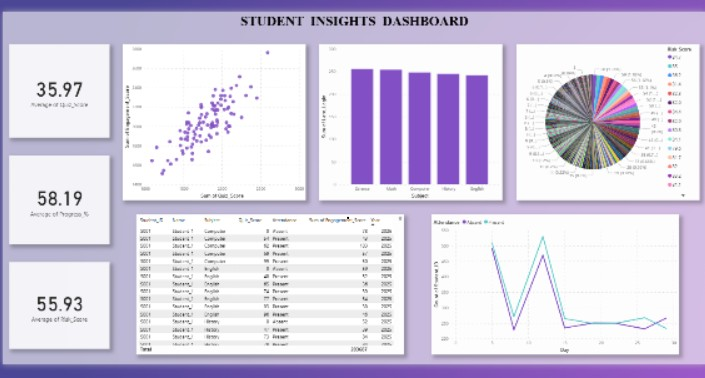

What the dashboard file says about the page in this screenshot:
{"tool":"powerbi","page":{"name":"Page 1","canvas":[1950,978],"ordinal":0},"visuals":[{"type":"card","fields":{"Values":["Student_Learning_Gap_Dataset_100.Quiz_Score"]},"box":[17.1,90,278.6,259.3],"z":0},{"type":"card","fields":{"Values":["Student_Learning_Gap_Dataset_100.Progress_%"]},"box":[17.1,398.6,278.6,246.4],"z":1000},{"type":"card","fields":{"Values":["Student_Learning_Gap_Dataset_100.Risk_Score"]},"box":[17.1,694.3,278.6,240],"z":2000},{"type":"scatterChart","fields":{"X":["Student_Learning_Gap_Dataset_100.Quiz_Score"],"Y":["Student_Learning_Gap_Dataset_100.Engagement_Score"],"Category":["Student_Learning_Gap_Dataset_100.Student_ID"]},"box":[332.1,90,507.9,432.9],"z":3000},{"type":"lineChart","fields":{"Category":["Student_Learning_Gap_Dataset_100.Date.Variation.Date Hierarchy.Day"],"Series":["Student_Learning_Gap_Dataset_100.Attendance"],"Y":["Student_Learning_Gap_Dataset_100.Student_ID"]},"box":[1189.3,563.6,685.7,387.9],"z":4000},{"type":"pieChart","fields":{"Y":["Student_Learning_Gap_Dataset_100.Student_ID"],"Category":["Student_Learning_Gap_Dataset_100.Risk_Score"]},"box":[1422.9,90,507.9,432.9],"z":5000},{"type":"clusteredColumnChart","fields":{"Category":["Student_Learning_Gap_Dataset_100.Subject"],"Y":["Student_Learning_Gap_Dataset_100.Late_Login"]},"box":[876.4,90,507.9,432.9],"z":6000},{"type":"tableEx","fields":{"Values":["Student_Learning_Gap_Dataset_100.Student_ID","Student_Learning_Gap_Dataset_100.Name","Student_Learning_Gap_Dataset_100.Subject","Student_Learning_Gap_Dataset_100.Quiz_Score","Student_Learning_Gap_Dataset_100.Attendance","Student_Learning_Gap_Dataset_100.Engagement_Score","Student_Learning_Gap_Dataset_100.Date.Variation.Date Hierarchy.Year"]},"box":[370.7,563.6,741.4,387.9],"z":7000},{"type":"textbox","box":[17.1,0,1913.6,62.1],"z":8000}]}

Visuals, with their boxes in screenshot pixels (x1, y1, x2, y2):
card - Student_Learning_Gap_Dataset_100.Quiz_Score: box=[3, 42, 106, 138]
card - Student_Learning_Gap_Dataset_100.Progress_%: box=[3, 157, 106, 248]
card - Student_Learning_Gap_Dataset_100.Risk_Score: box=[3, 266, 106, 355]
scatterChart - Student_Learning_Gap_Dataset_100.Quiz_Score x Student_Learning_Gap_Dataset_100.Engagement_Score: box=[119, 42, 307, 202]
lineChart - Student_Learning_Gap_Dataset_100.Date.Variation.Date Hierarchy.Day x Student_Learning_Gap_Dataset_100.Attendance: box=[436, 218, 689, 361]
pieChart - Student_Learning_Gap_Dataset_100.Student_ID x Student_Learning_Gap_Dataset_100.Risk_Score: box=[522, 42, 704, 202]
clusteredColumnChart - Student_Learning_Gap_Dataset_100.Subject x Student_Learning_Gap_Dataset_100.Late_Login: box=[320, 42, 508, 202]
tableEx - Student_Learning_Gap_Dataset_100.Student_ID x Student_Learning_Gap_Dataset_100.Name: box=[133, 218, 407, 361]
textbox: box=[3, 9, 704, 32]
